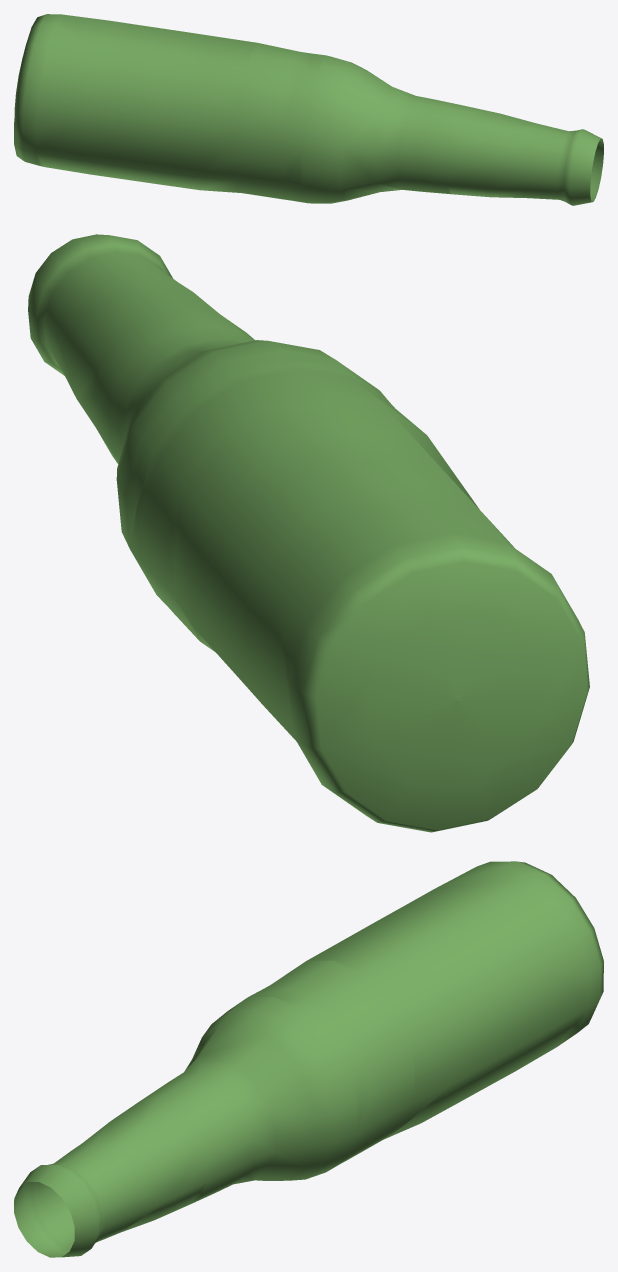
File: M_3_bottle.fbx
3 views of the same model, one above another, from view 1: azimuth 30°, elevation 25°; view 2: azimuth 150°, elevation 25°; view 3: azimuth 270°, elevation 25° (orthographic). The views are drawn at different scales.
Visible parts, largest first — view 1: beer1:revolvedSurface1; view 2: beer1:revolvedSurface1; view 3: beer1:revolvedSurface1.
Boxes of the visible parts, box(x1,y1,x2,y2) form: beer1:revolvedSurface1: box(14, 14, 603, 205); beer1:revolvedSurface1: box(28, 234, 589, 832); beer1:revolvedSurface1: box(14, 861, 603, 1257).
Size of the model in its own units: 4.43 by 1.49 by 4.1.
